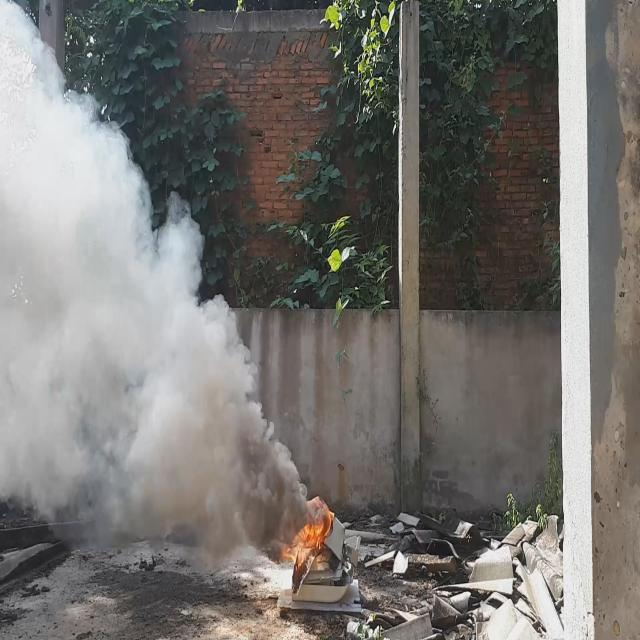Fire: (282, 501, 338, 577)
Smoke: (0, 0, 325, 556)
